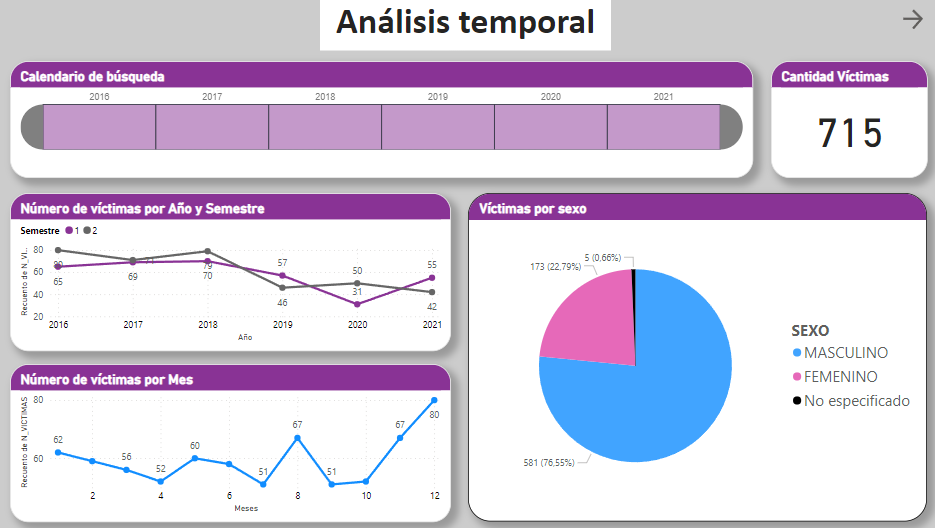

The page's visual inventory and layout, read from the dashboard file:
{"tool":"powerbi","page":{"name":"Análisis temporal","canvas":[1280,720],"ordinal":0},"visuals":[{"type":"card","title":"Cantidad Víctimas","fields":{"Values":["CountNonNull(df_accidentes.N_VICTIMAS)"]},"box":[1046,92.2,209.2,155.5],"z":1000},{"type":"Timeline1447991079100","title":"Calendario de búsqueda","fields":{"Time":["df_accidentes.FECHA"]},"box":[31.7,92.2,991,155.5],"z":2000},{"type":"lineChart","title":"Número de víctimas por Año y Semestre","fields":{"Category":["df_accidentes.Año"],"Series":["Calendario.Semestre"],"Y":["CountNonNull(df_accidentes.N_VICTIMAS)"]},"box":[31.7,268.4,587.7,210.6],"z":3000},{"type":"lineChart","title":"Número de víctimas por Mes","fields":{"Category":["Calendario.Mes"],"Y":["CountNonNull(df_accidentes.N_VICTIMAS)"]},"box":[31.7,495.5,587.7,210.6],"z":4000},{"type":"textbox","box":[445.9,4.1,388.1,74.3],"z":5000},{"type":"pieChart","title":"Víctimas por sexo","fields":{"Category":["df_accidentes.SEXO"],"Y":["Sum(df_accidentes.N_VICTIMAS)"]},"box":[642.8,268.4,612.5,437.7],"z":6000},{"type":"actionButton","box":[1216.7,19.3,63.3,35.8],"z":6001}]}

Visuals, with their boxes in screenshot pixels (x1, y1, x2, y2), scaled from the page's 1280x720 canvas onto the 935x528 screenshot:
"Cantidad Víctimas" card: box(764, 68, 917, 182)
"Calendario de búsqueda" Timeline1447991079100: box(23, 68, 747, 182)
"Número de víctimas por Año y Semestre" lineChart: box(23, 197, 452, 351)
"Número de víctimas por Mes" lineChart: box(23, 363, 452, 518)
textbox: box(326, 3, 609, 57)
"Víctimas por sexo" pieChart: box(470, 197, 917, 518)
actionButton: box(889, 14, 934, 40)
